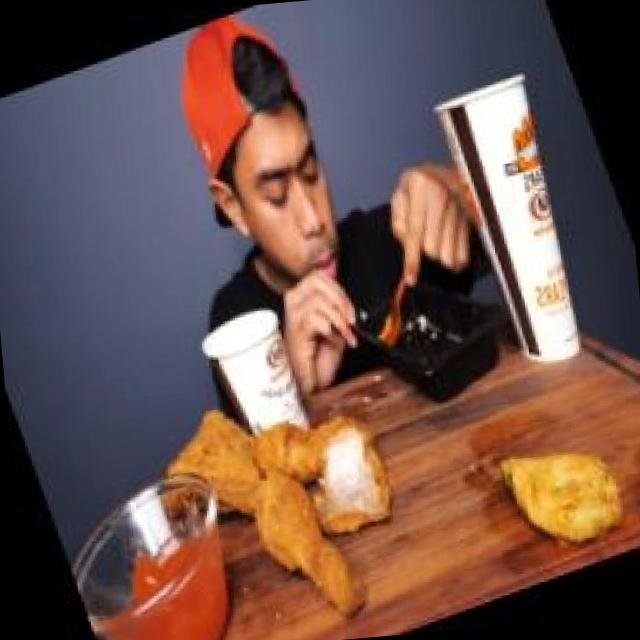AW cola: (412, 39, 636, 400)
crispy corn: (175, 291, 322, 470)
fried chicken: (142, 342, 429, 640)
perkedel: (480, 397, 640, 580)
